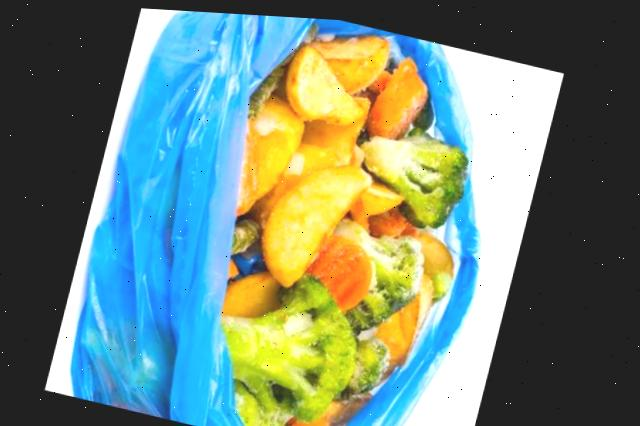Garbage: (226, 30, 470, 426)
